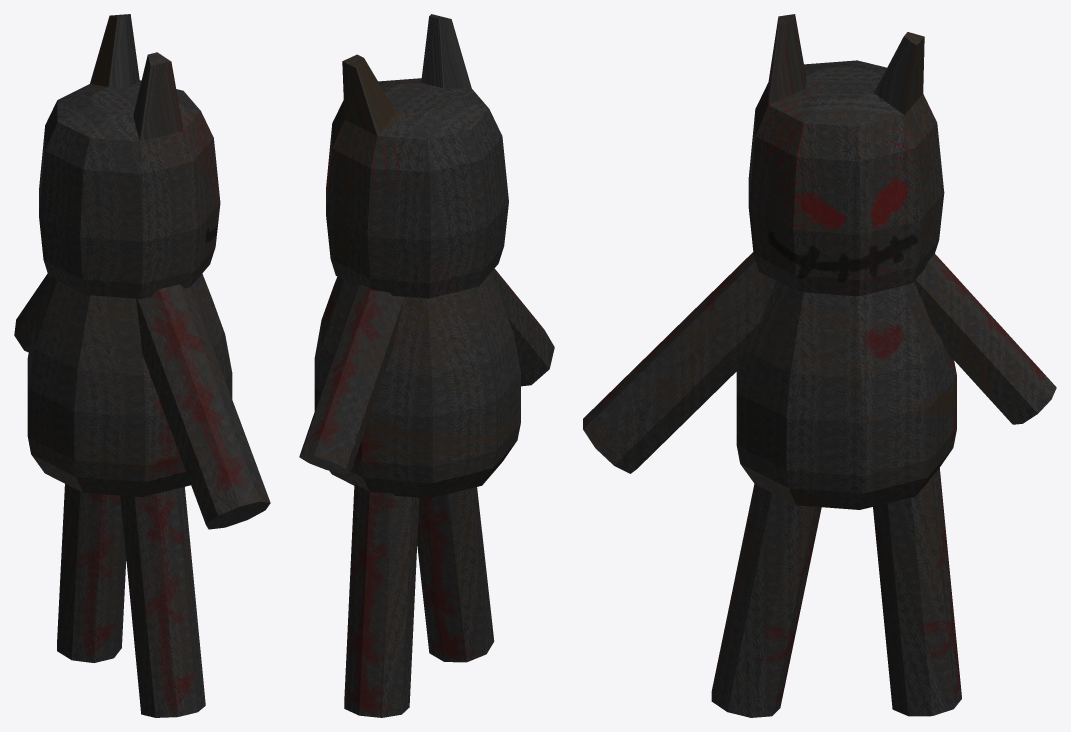
Rendered from Doll Ugly.fbx.
3 views of the same model, side by side, from view 1: azimuth 30°, elevation 25°; view 2: azimuth 150°, elevation 25°; view 3: azimuth 270°, elevation 25° (orthographic). The views are drawn at different scales.
Parts seen in each view (by area): view 1: Body; view 2: Body; view 3: Body.
Part boxes in pixels (x1,y1,x2,y2): Body: (14,14,270,717); Body: (299,14,554,717); Body: (583,14,1056,717).
Bounding box in the file's own units: 238 × 813 × 504.
